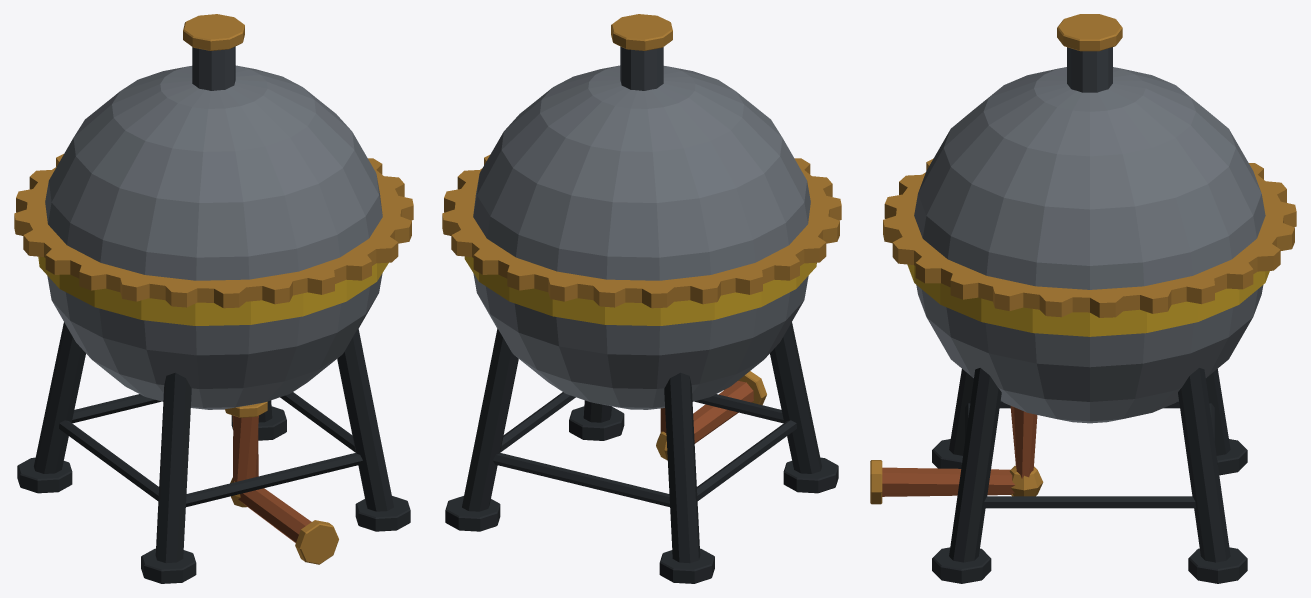
The model's file is cog_tank_b.fbx.
The picture shows the model from 3 angles, left to right: view 1: azimuth 30°, elevation 25°; view 2: azimuth 150°, elevation 25°; view 3: azimuth 270°, elevation 25°; orthographic projection. The views are drawn at different scales.
Visible parts, largest first — view 1: Body; view 2: Body; view 3: Body.
Part boxes in pixels (<box>): Body: <box>14,14,413,583</box>; Body: <box>442,14,841,583</box>; Body: <box>870,14,1296,583</box>.
Size of the model in its own units: 12.59 by 16.58 by 12.97.
Materials: 1 (1 with a texture image).
